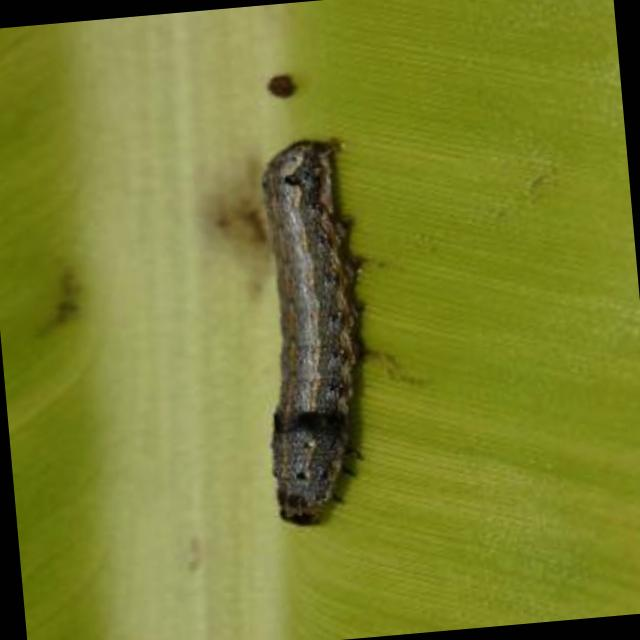Tobacco cutworm: (182, 79, 458, 589)
